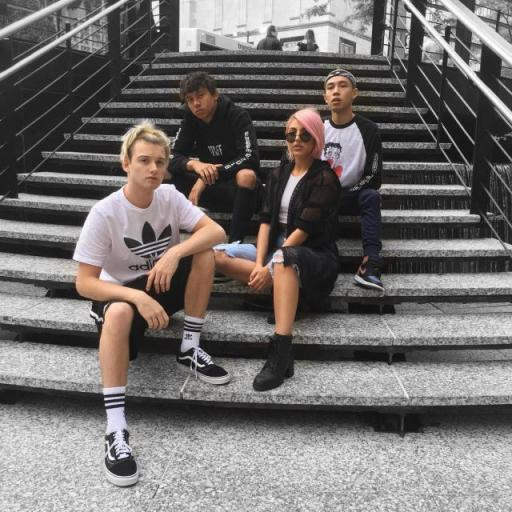Adidas: (122, 220, 174, 272)
